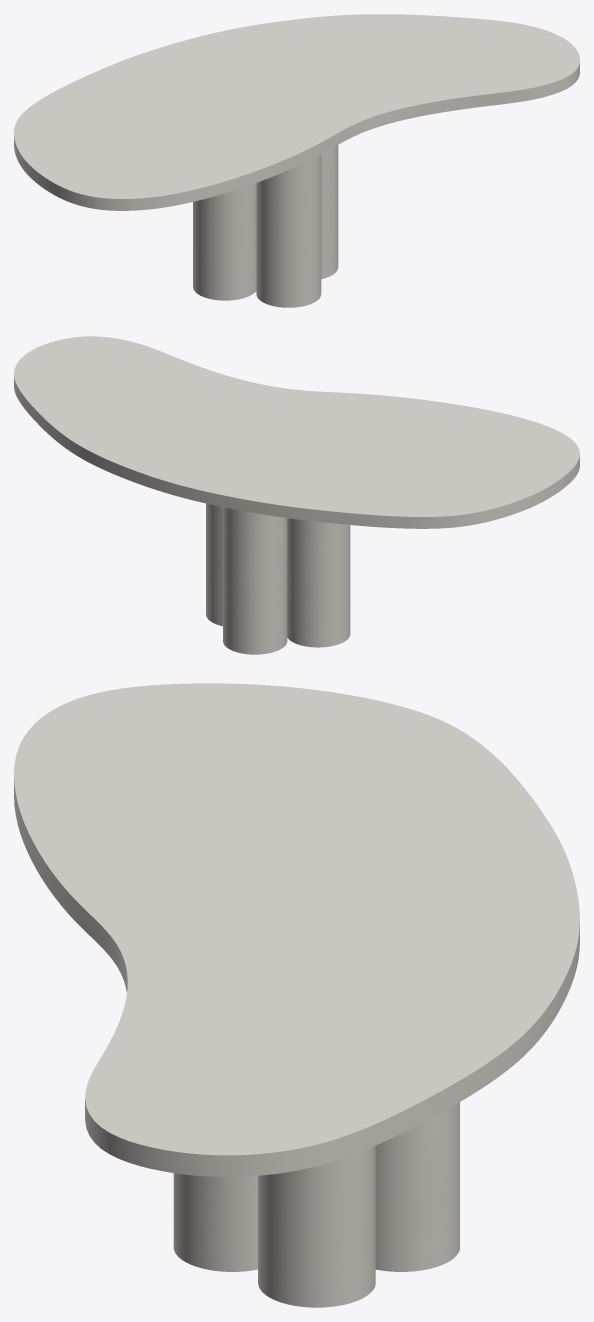
File: pearlwhite_leaf1_standard_secondtable.glb
3 renders of one model, top to bottom at view 1: azimuth 30°, elevation 25°; view 2: azimuth 150°, elevation 25°; view 3: azimuth 270°, elevation 25°, orthographic. The views are drawn at different scales.
Parts seen in each view (by area): view 1: standard_leaf1, secondtable; view 2: standard_leaf1, secondtable; view 3: standard_leaf1, secondtable.
Part boxes in pixels (<box>): standard_leaf1: <box>14,14,579,210</box>; secondtable: <box>193,145,338,307</box>; standard_leaf1: <box>14,336,579,528</box>; secondtable: <box>206,503,350,654</box>; standard_leaf1: <box>14,683,579,1176</box>; secondtable: <box>173,1102,459,1307</box>.
Bounding box in the file's own units: 7.5 × 2.51 × 3.8.
1 material, 1 textured.
